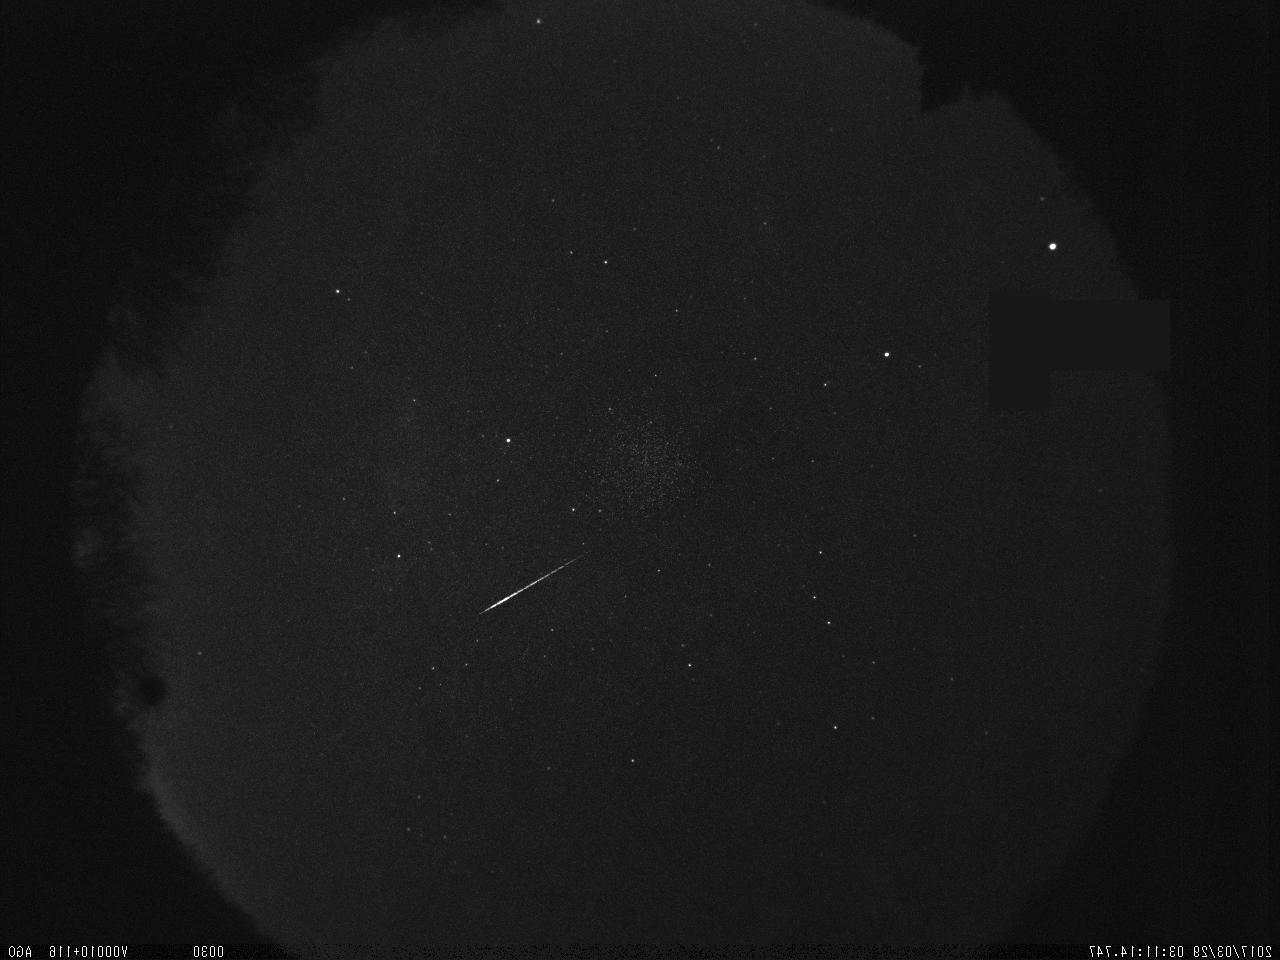meteor: (471, 536, 594, 617)
